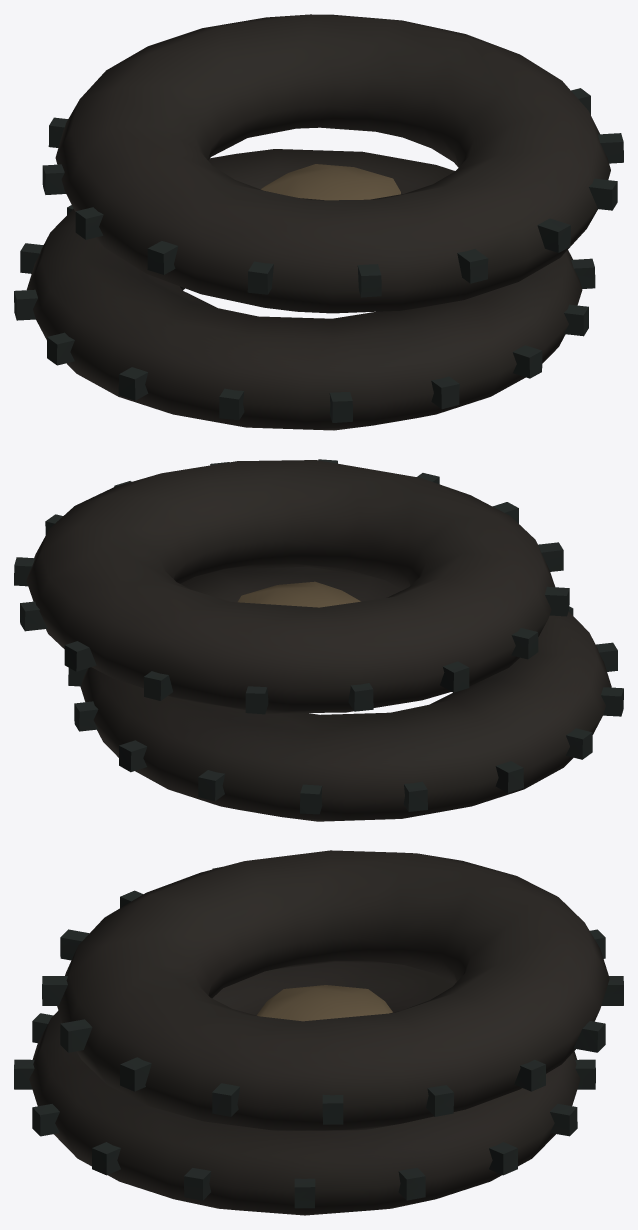
File: haul_tyre_b_lod1.glb
The picture shows the model from 3 angles, top to bottom: view 1: azimuth 30°, elevation 25°; view 2: azimuth 150°, elevation 25°; view 3: azimuth 270°, elevation 25°; orthographic projection. The views are drawn at different scales.
Visible parts, largest first — view 1: Surface.001; view 2: Surface.001; view 3: Surface.001.
Part boxes in pixels (x1,y1,x2,y2): Surface.001: (14, 14, 623, 430); Surface.001: (14, 459, 623, 821); Surface.001: (14, 850, 623, 1215).
Bounding box in the file's own units: 4.49 × 1.62 × 4.34.
